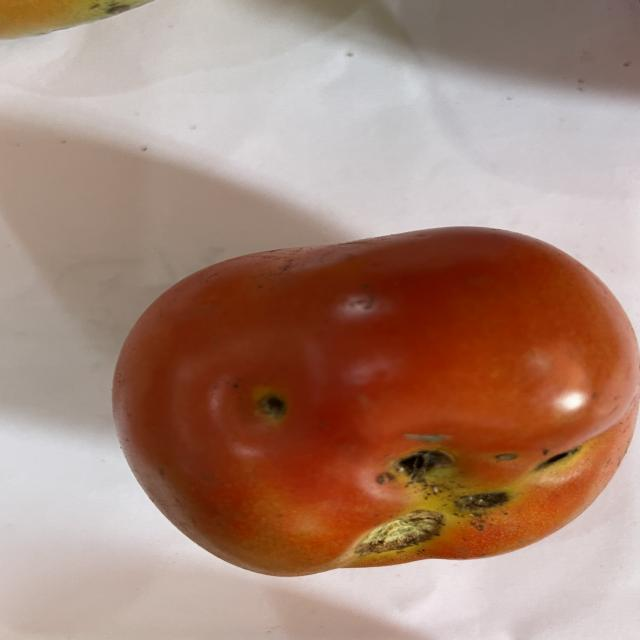fruitworm_bore: (372, 440, 514, 536), (530, 440, 604, 483), (238, 384, 301, 433)
